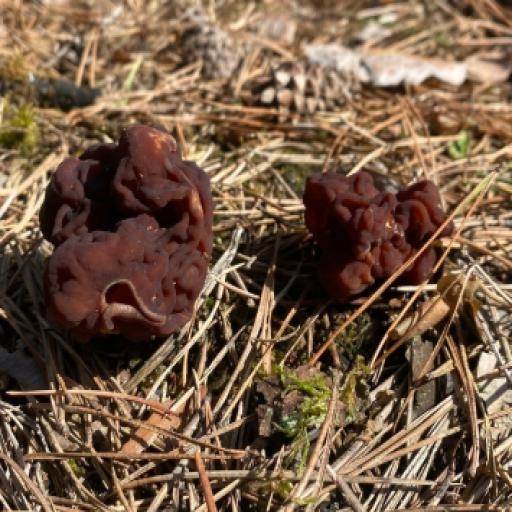False Morel: (48, 141, 214, 346), (310, 160, 446, 289)
